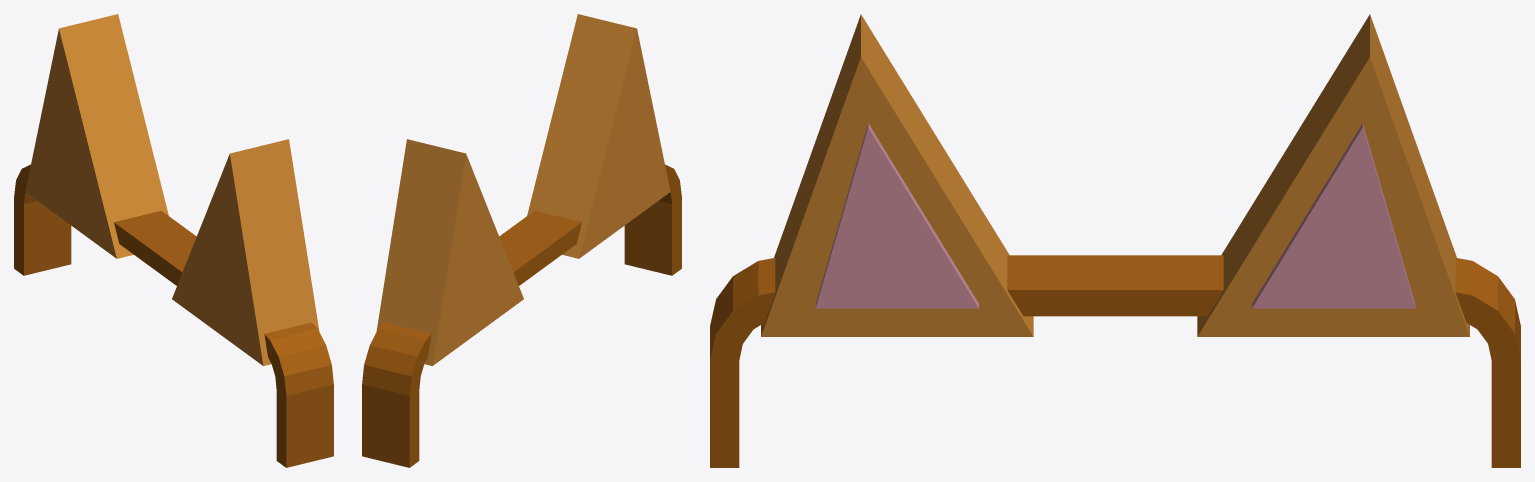
Rendered from cat.glb.
3 views of the same model, side by side, from view 1: azimuth 30°, elevation 25°; view 2: azimuth 150°, elevation 25°; view 3: azimuth 270°, elevation 25° (orthographic). The views are drawn at different scales.
Visible parts, largest first — view 1: Ears, Band; view 2: Ears, Band; view 3: Ears, Band.
Part boxes in pixels (left/top/right/bottom): Ears: left=25, top=14, right=319, bottom=365; Band: left=14, top=164, right=333, bottom=467; Ears: left=376, top=14, right=670, bottom=365; Band: left=362, top=164, right=681, bottom=467; Ears: left=761, top=14, right=1469, bottom=336; Band: left=710, top=255, right=1520, bottom=467.
Bounding box in the file's own units: 0.062 × 0.252 × 0.446.
